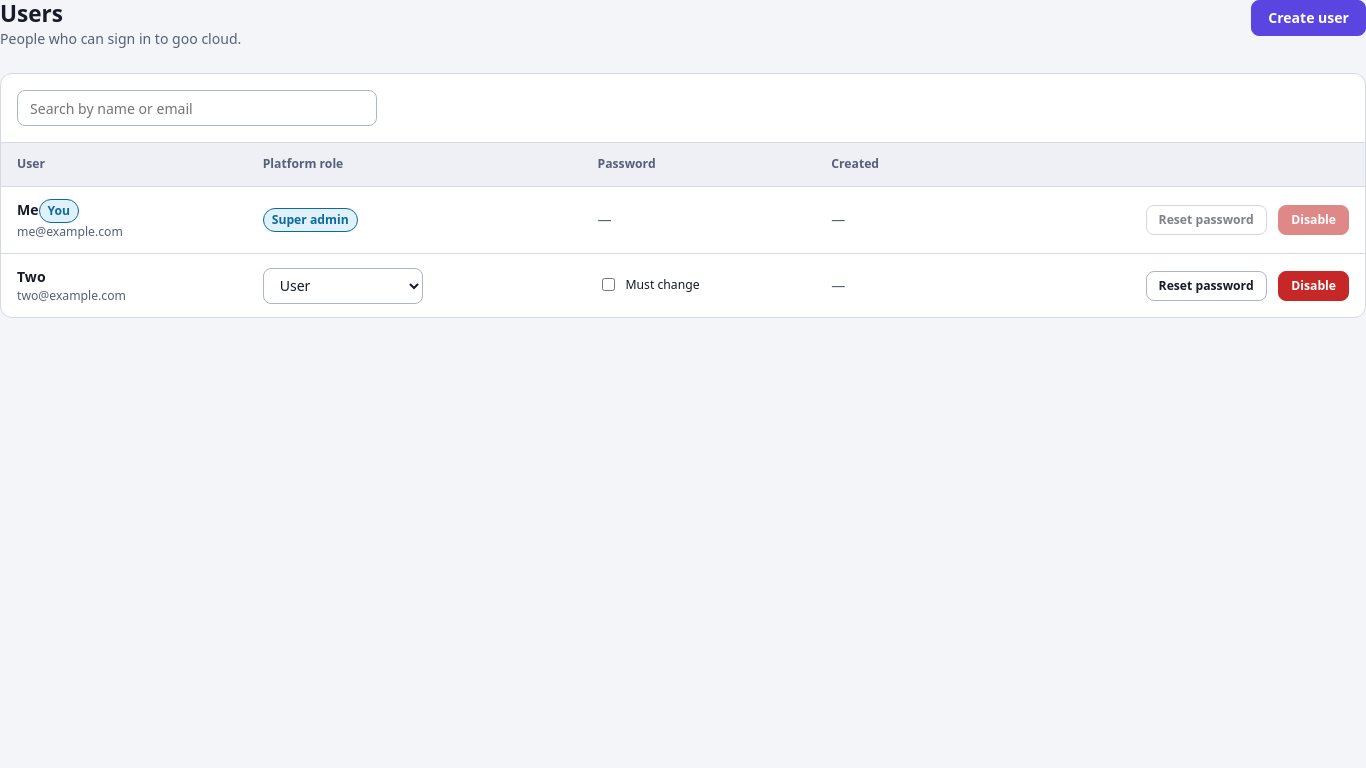
Test case: UsersPage role-based UI › create form validates client-side and sends nothing when invalid
This screenshot has width=1366, height=768.
Check: the text "Two" is shown, box [17,267,46,286]
Click the button "Create user" at (1309, 18), box [1251,0,1365,36]
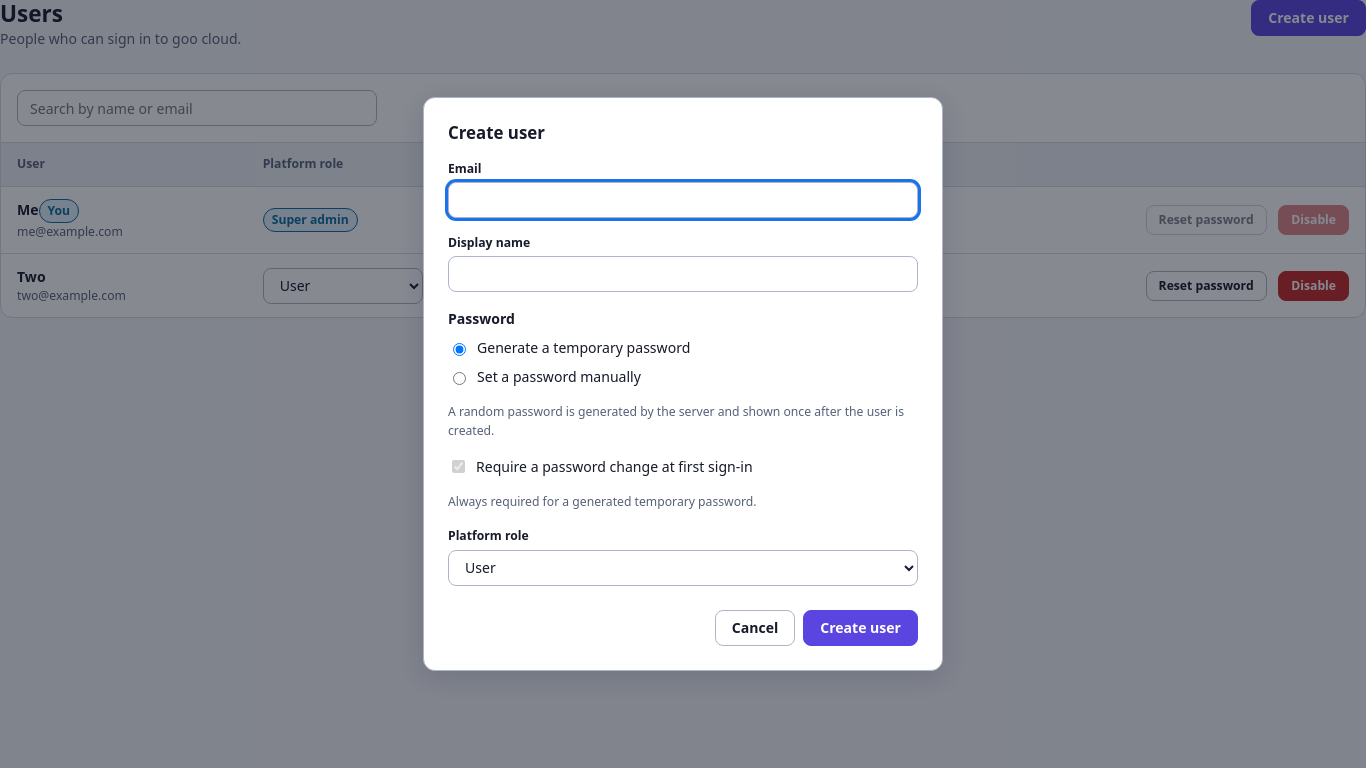
Click the radio button labelled "Set a password manually" at (460, 378), box [453,372,466,385]
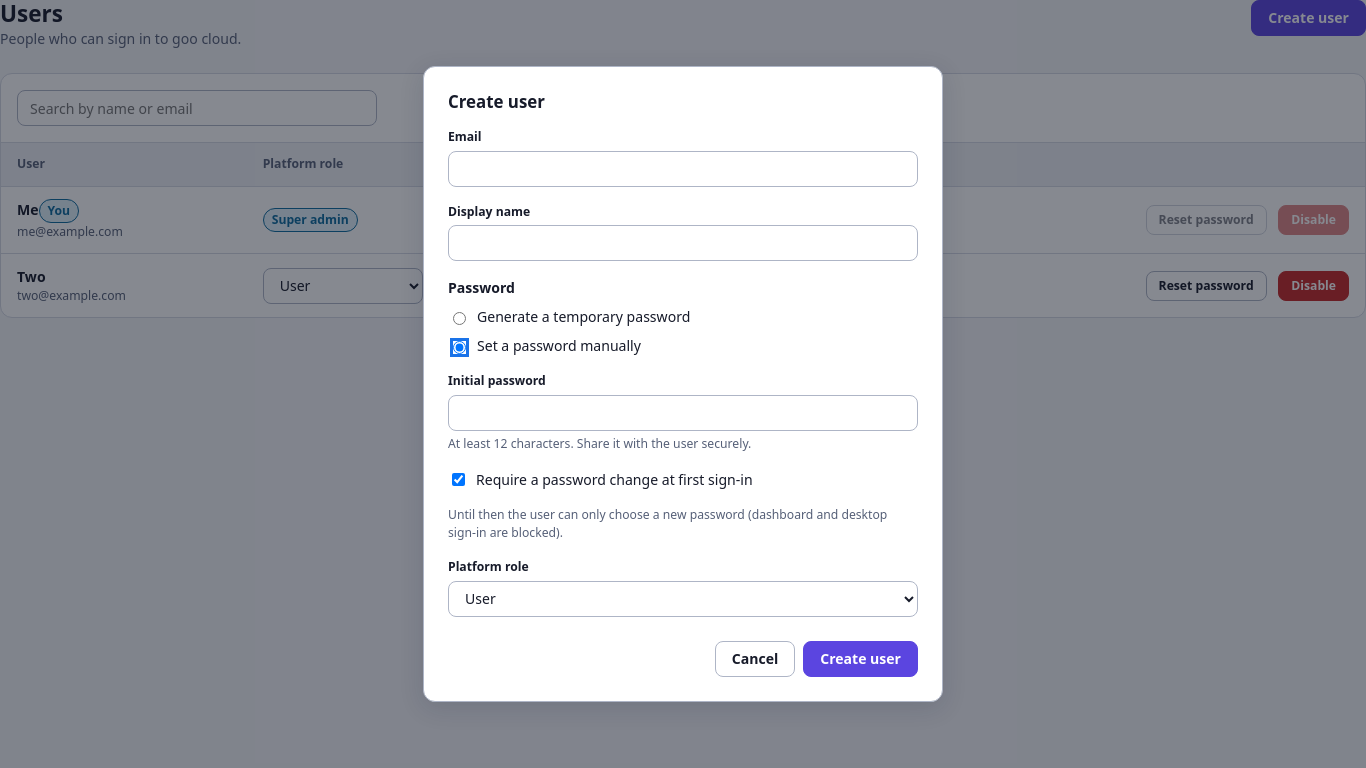
Click the button "Create user" at (861, 659), box [803,641,918,677]
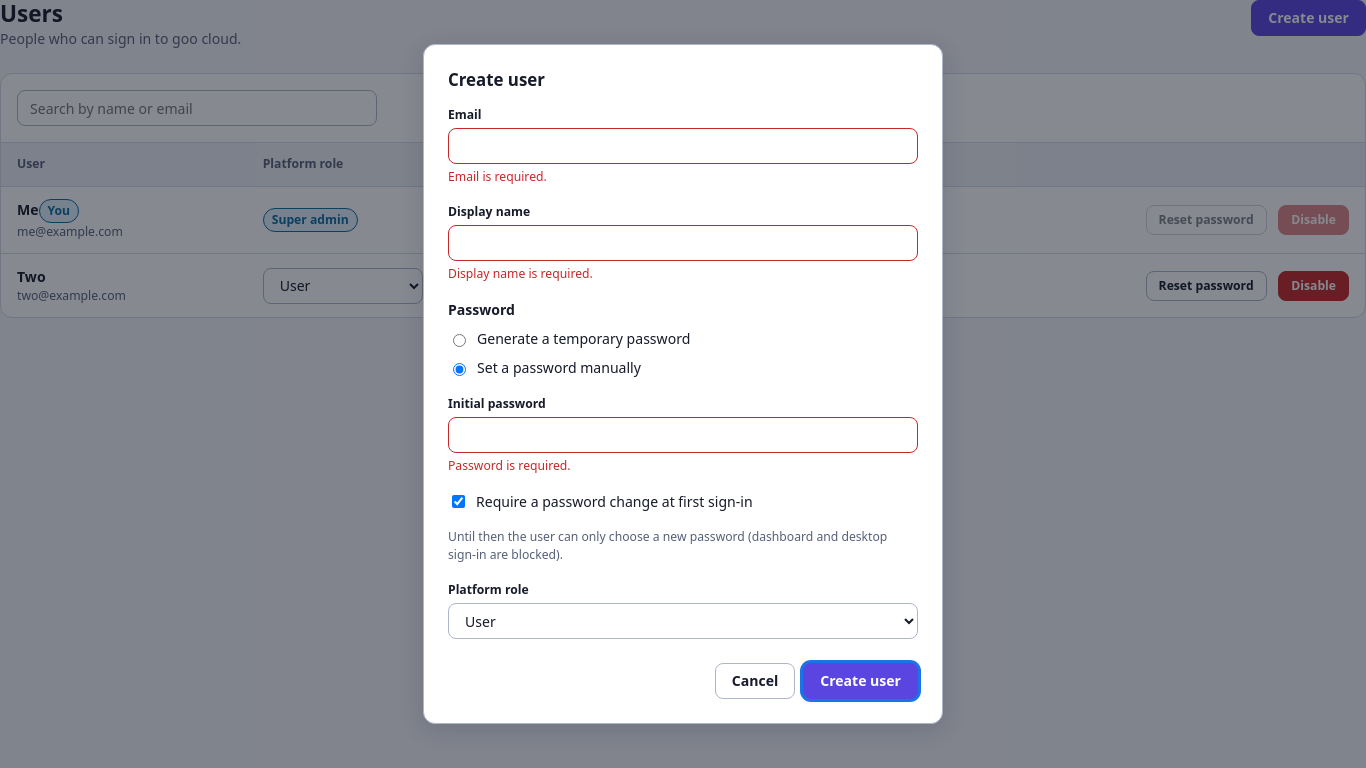
Check: the text "Email is required." is shown, box [448,168,547,185]
Check: the text "Display name is required." is shown, box [448,265,593,282]
Check: the text "Password is required." is shown, box [448,457,571,474]
